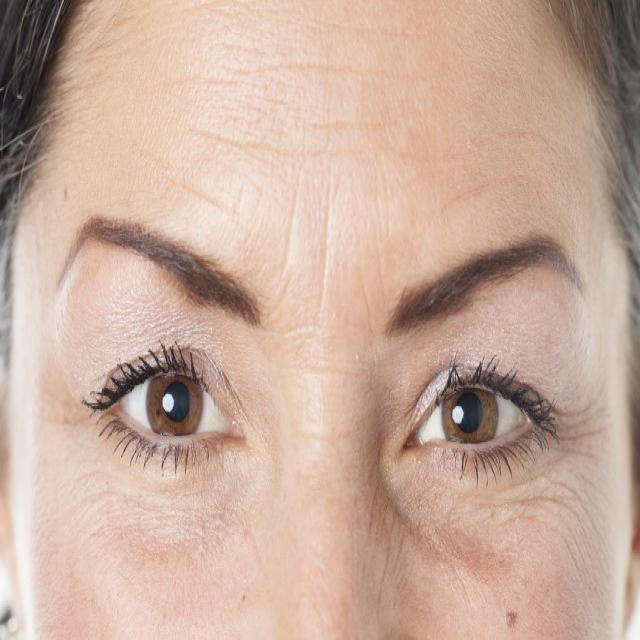Dry-Skin: (167, 14, 525, 249), (59, 463, 274, 640), (389, 473, 587, 640)
